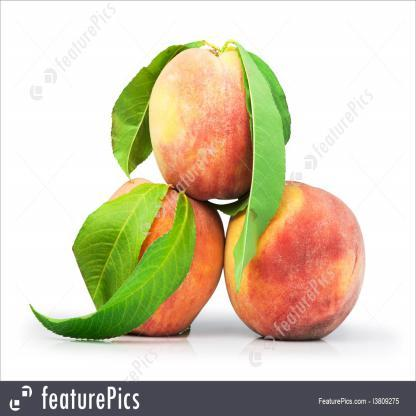Peach leaf: (34, 197, 188, 345), (232, 40, 289, 304), (110, 40, 208, 175), (76, 182, 168, 306)
